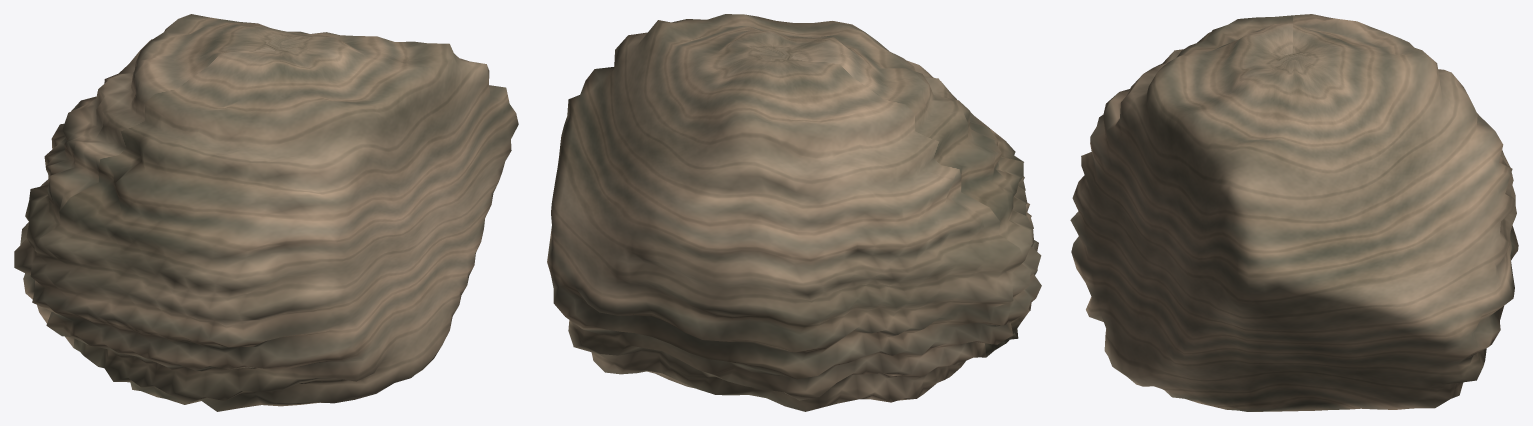
The model's file is PZ_R06_Layered_Shale_Boulder_Sediment.glb.
3 views of the same model, side by side, from view 1: azimuth 30°, elevation 25°; view 2: azimuth 150°, elevation 25°; view 3: azimuth 270°, elevation 25° (orthographic). The views are drawn at different scales.
Visible parts, largest first — view 1: RENDER_R06_Layered_Shale_Boulder_Sediment; view 2: RENDER_R06_Layered_Shale_Boulder_Sediment; view 3: RENDER_R06_Layered_Shale_Boulder_Sediment.
Boxes of the visible parts, x1,y1,x2,y2 form: RENDER_R06_Layered_Shale_Boulder_Sediment: (14,14,518,411); RENDER_R06_Layered_Shale_Boulder_Sediment: (547,14,1041,411); RENDER_R06_Layered_Shale_Boulder_Sediment: (1070,14,1518,411).
Bounding box in the file's own units: 1.75 × 1.04 × 1.41.
Materials: 1 (1 with a texture image).
